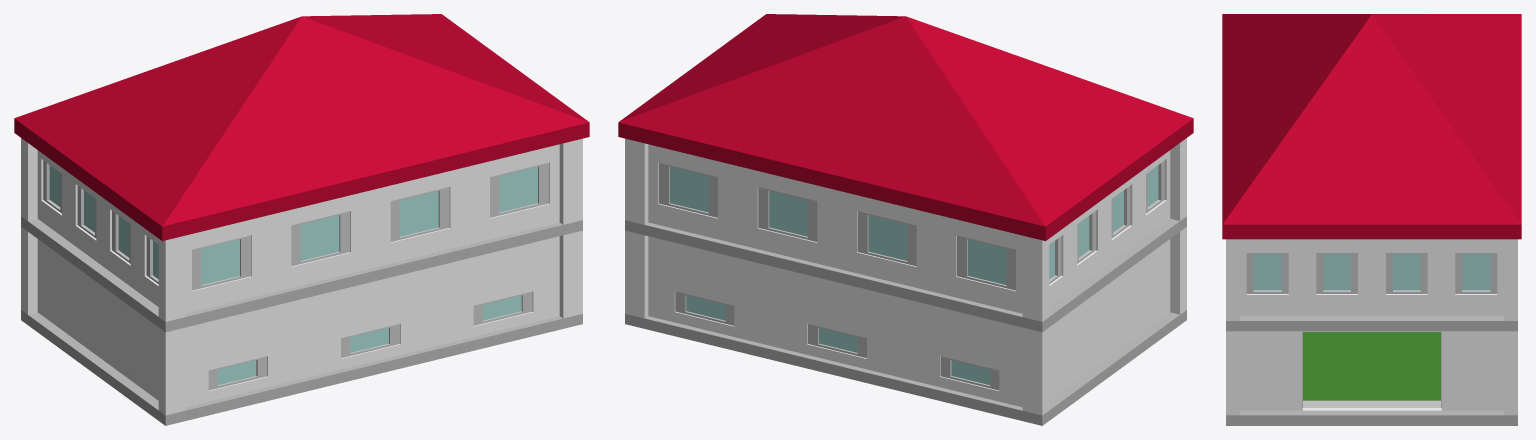
Rendered from building8-2.fbx.
3 renders of one model, left to right at view 1: azimuth 30°, elevation 25°; view 2: azimuth 150°, elevation 25°; view 3: azimuth 270°, elevation 25°, orthographic.
Parts seen in each view (by area): view 1: building_014; view 2: building_014; view 3: building_014.
Boxes of the visible parts, x1,y1,x2,y2 form: building_014: (14,14,589,425); building_014: (618,14,1193,425); building_014: (1222,14,1521,425).
Bounding box in the file's own units: 21.5 × 14.7 × 12.9.
